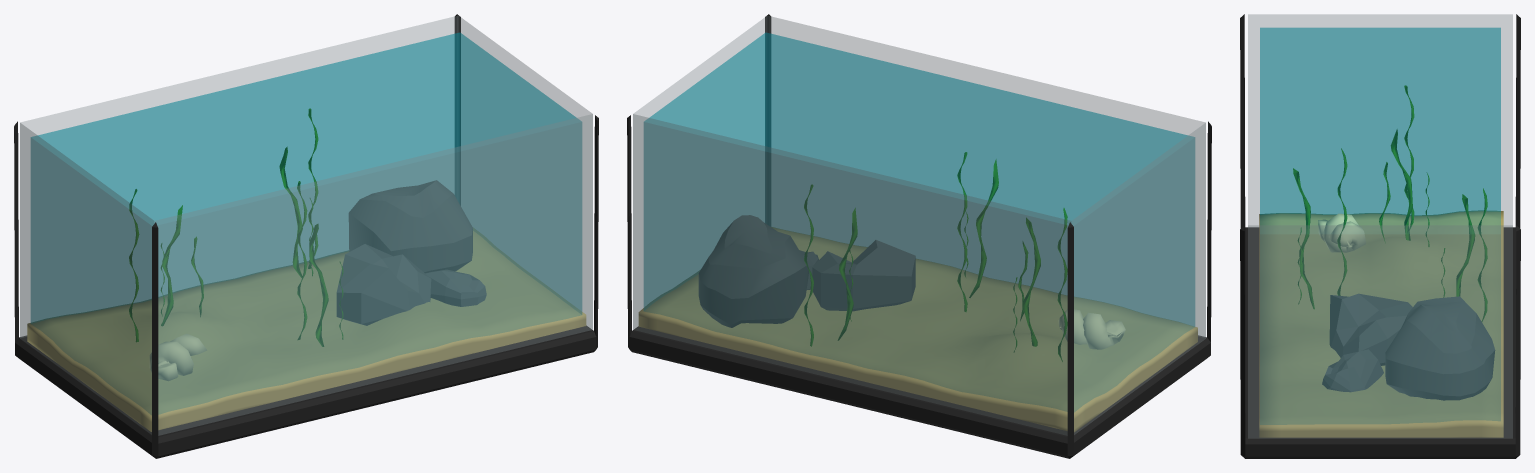
Rendered from aquarium3.fbx.
3 views of the same model, side by side, from view 1: azimuth 30°, elevation 25°; view 2: azimuth 150°, elevation 25°; view 3: azimuth 270°, elevation 25° (orthographic).
Visible parts, largest first — view 1: polySurface35.001; view 2: polySurface35.001; view 3: polySurface35.001.
Part boxes in pixels (x1,y1,x2,y2): polySurface35.001: [14, 14, 598, 458]; polySurface35.001: [627, 14, 1211, 458]; polySurface35.001: [1240, 14, 1520, 458].
Size of the model in its own units: 0.1207 by 0.0613 by 0.0666.
